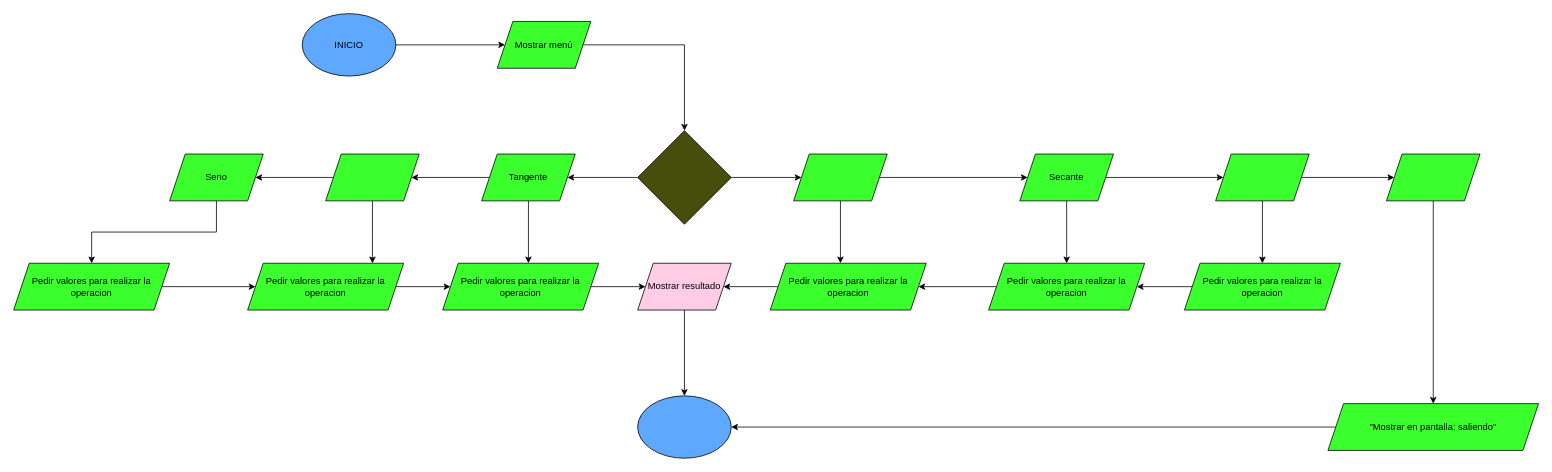
This 1552x472 diagram has some shape labels left out. Here are the shapes that lost their labels. From the top down, the centre of each, then its label:
the point at 372,177: Coseno
the point at 684,177: ¿Que operación desea realizar?
the point at 840,177: Cotangente
the point at 1262,177: Cosecante
the point at 1433,177: Salir
the point at 684,426: FIN
